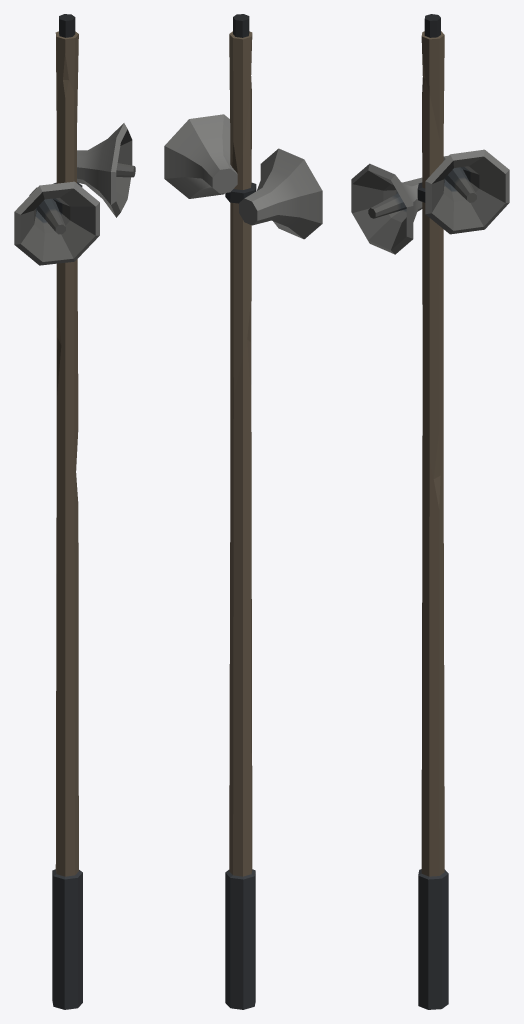
The model's file is SM_Prop_SpeakerPole_01.fbx.
3 views of the same model, side by side, from view 1: azimuth 30°, elevation 25°; view 2: azimuth 150°, elevation 25°; view 3: azimuth 330°, elevation 25° (orthographic).
Visible parts, largest first — view 1: SM_Prop_SpeakerPole_01; view 2: SM_Prop_SpeakerPole_01; view 3: SM_Prop_SpeakerPole_01.
Part boxes in pixels (x1=…): SM_Prop_SpeakerPole_01: x1=14, y1=14, x2=135, y2=1009; SM_Prop_SpeakerPole_01: x1=164, y1=14, x2=322, y2=1009; SM_Prop_SpeakerPole_01: x1=351, y1=14, x2=509, y2=1009.
Bounding box in the file's own units: 134 × 922 × 74.35.
